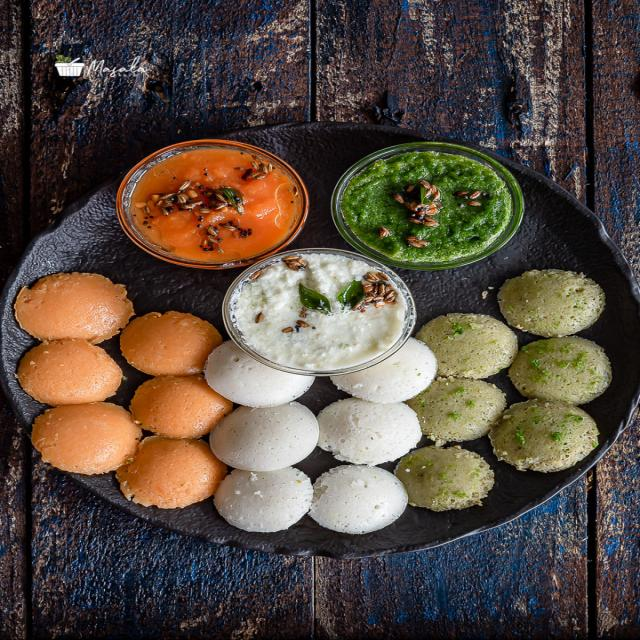Wet Waste: (223, 246, 423, 375), (29, 401, 143, 474), (206, 402, 318, 471), (12, 338, 122, 408), (18, 272, 127, 342), (313, 396, 422, 466), (497, 266, 603, 335), (508, 334, 616, 401), (496, 400, 601, 468), (121, 434, 220, 506), (211, 464, 309, 533), (129, 372, 229, 439), (208, 341, 311, 406), (308, 464, 406, 532), (417, 312, 516, 377), (122, 311, 218, 376), (337, 336, 430, 402), (396, 448, 491, 510), (412, 374, 502, 438)
